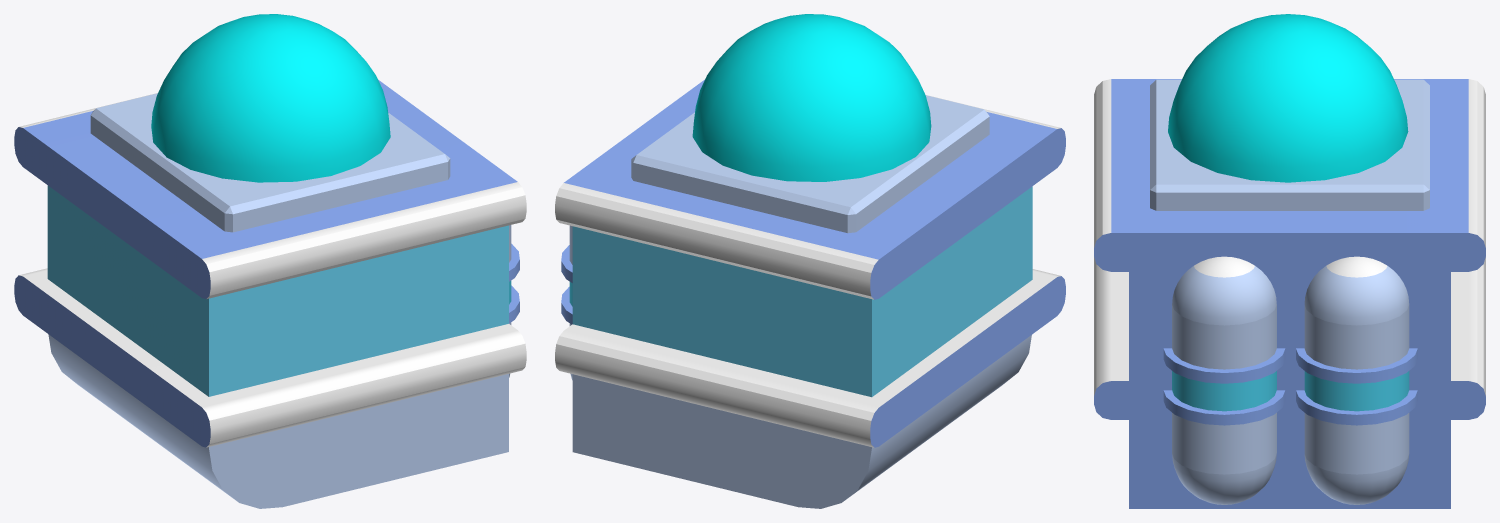
File: Building_045_a.fbx
3 renders of one model, left to right at view 1: azimuth 30°, elevation 25°; view 2: azimuth 150°, elevation 25°; view 3: azimuth 270°, elevation 25°, orthographic.
Parts seen in each view (by area): view 1: Building_045_a; view 2: Building_045_a; view 3: Building_045_a.
Part boxes in pixels (box(x1,y1,x2,y2)): Building_045_a: box(14, 14, 526, 508); Building_045_a: box(555, 14, 1065, 508); Building_045_a: box(1094, 14, 1485, 508).
Size of the model in its own units: 32.43 by 34.43 by 30.08.
